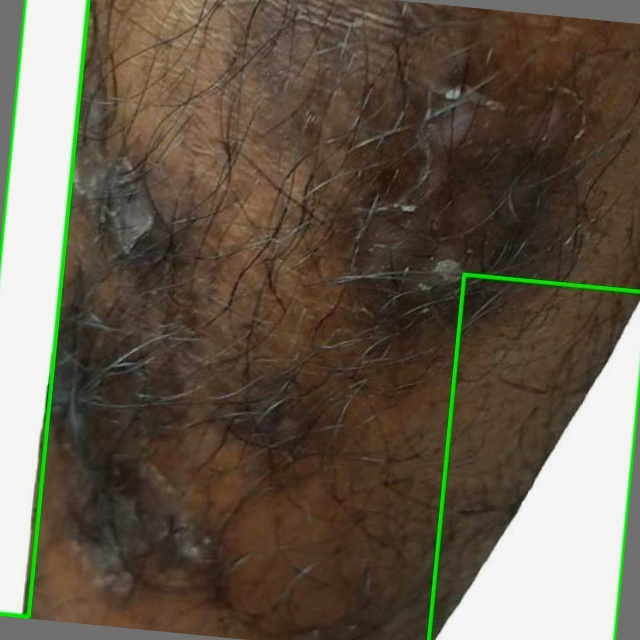Eczema: (428, 274, 639, 639), (0, 0, 88, 617)
